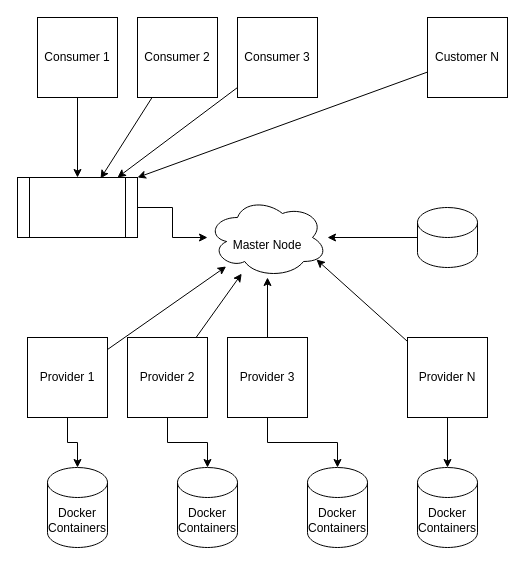
The diagram is 525 pixels wide and 565 high, and some of its shapes have lost their labels. Here are the shapes that lost their labels. From the top down, the centre of each, then its label:
At [77,207]: "GUI".
At [447,237]: "DB".
